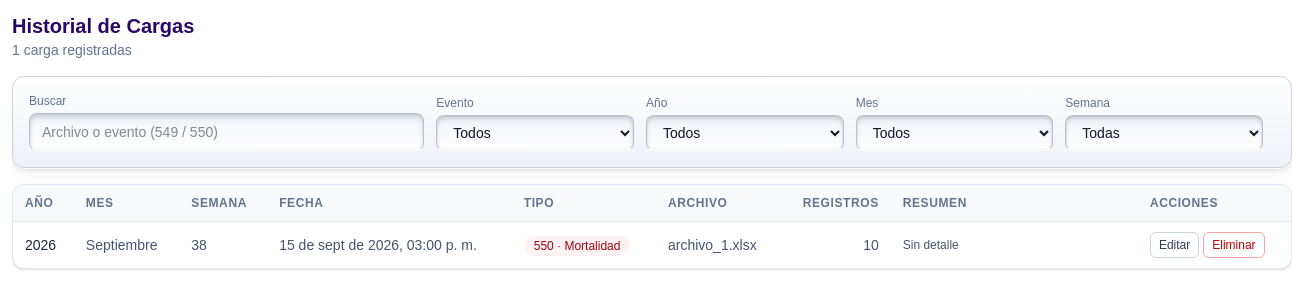
Test: UploadHistorySection › sin resultados con filtros muestra el estado vacío y permite limpiarlos
Expected: the text "archivo_1.xlsx" is shown, [656,222,780,268]
Step 1. Select "549 · Morbilidad" in the dropdown labelled "Evento" → (535, 133), box [436,115,634,151]
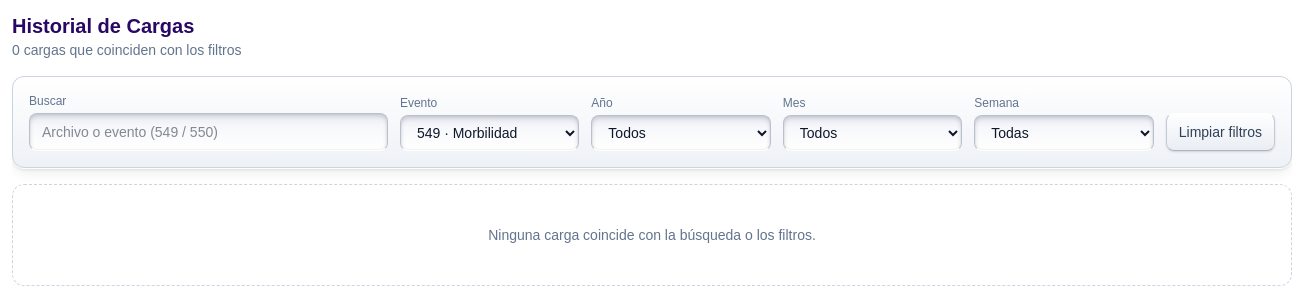
Result: the text "Ninguna carga coincide con la búsqueda o los filtros." is shown at [12,184,1291,286]
Result: the text "0 cargas que coinciden con los filtros" is shown at [12,42,242,58]
Step 2. Click the button "Limpiar filtros" → (1220, 132), box [1166,113,1275,151]
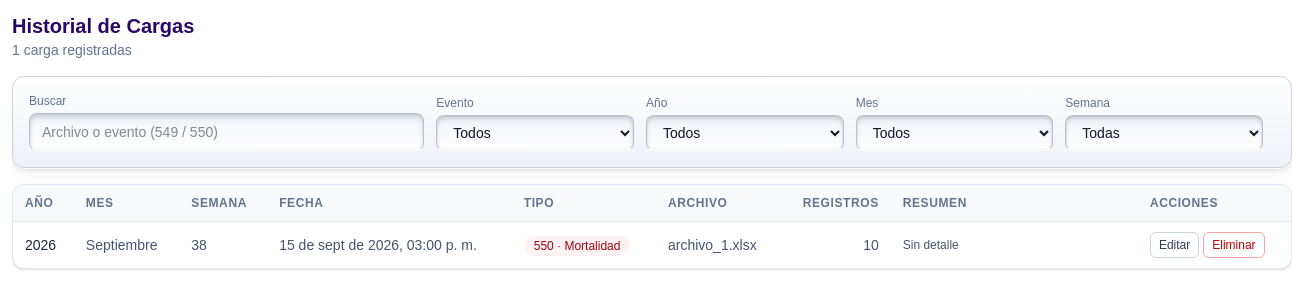
Result: the text "archivo_1.xlsx" is shown at [656,222,780,268]
Result: the button "Limpiar filtros" is gone
